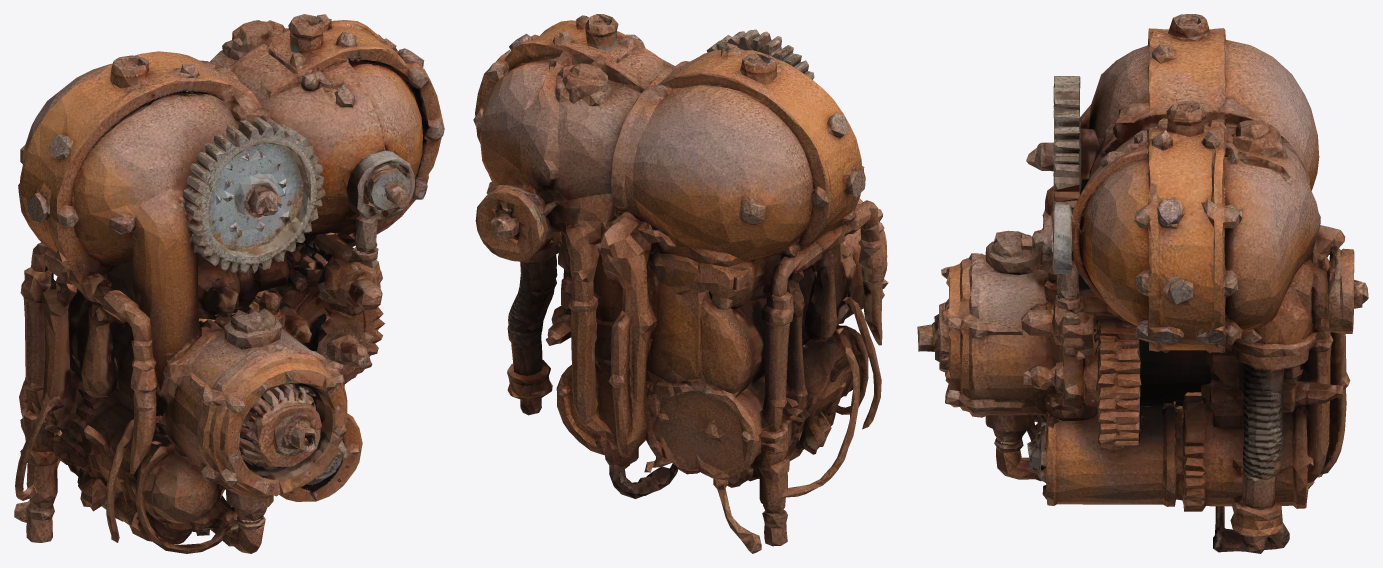
File: wing (280).glb
3 renders of one model, left to right at view 1: azimuth 30°, elevation 25°; view 2: azimuth 150°, elevation 25°; view 3: azimuth 270°, elevation 25°, orthographic. The views are drawn at different scales.
Visible parts, largest first — view 1: Hy21_Mesh.obj; view 2: Hy21_Mesh.obj; view 3: Hy21_Mesh.obj.
Part boxes in pixels (x1,y1,x2,y2): Hy21_Mesh.obj: (14, 14, 444, 553); Hy21_Mesh.obj: (473, 14, 888, 553); Hy21_Mesh.obj: (917, 14, 1368, 553).
Size of the model in its own units: 1.7 by 1.96 by 1.61.
Materials: 1 (1 with a texture image).
